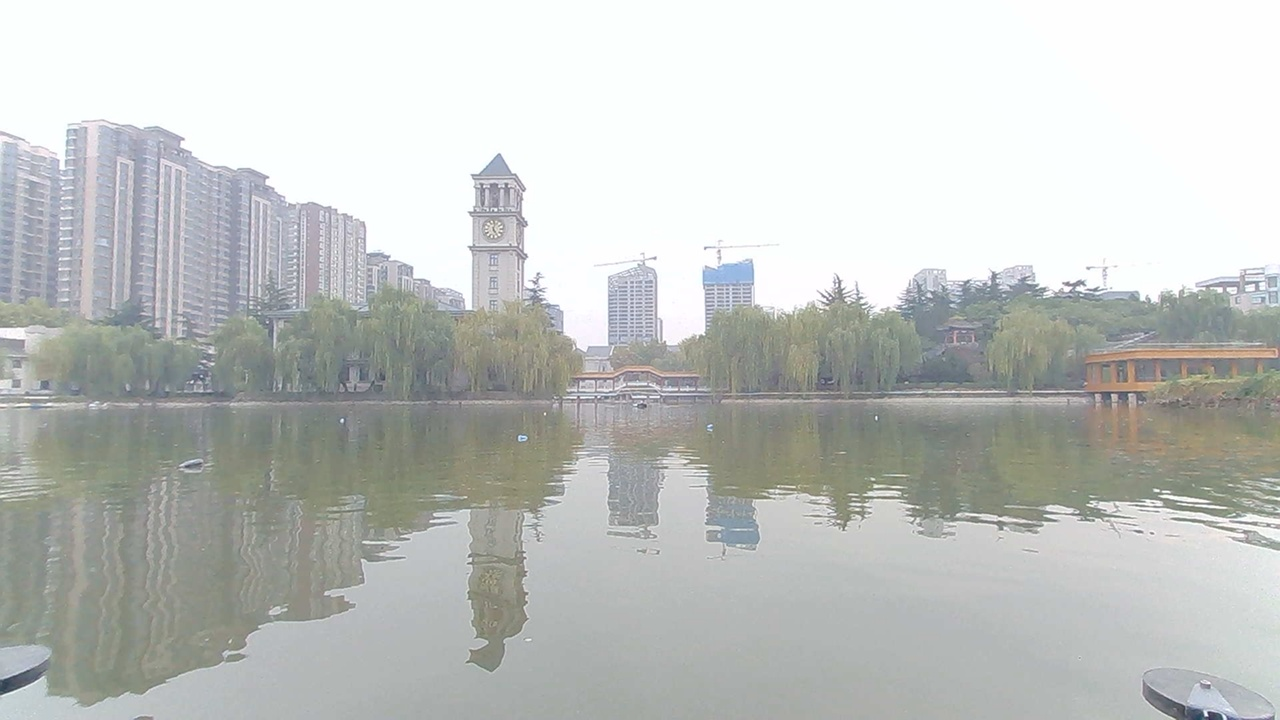bottle: (180, 454, 217, 483), (321, 406, 358, 435), (695, 409, 729, 436), (863, 402, 893, 428), (506, 432, 543, 453), (537, 406, 566, 428)
